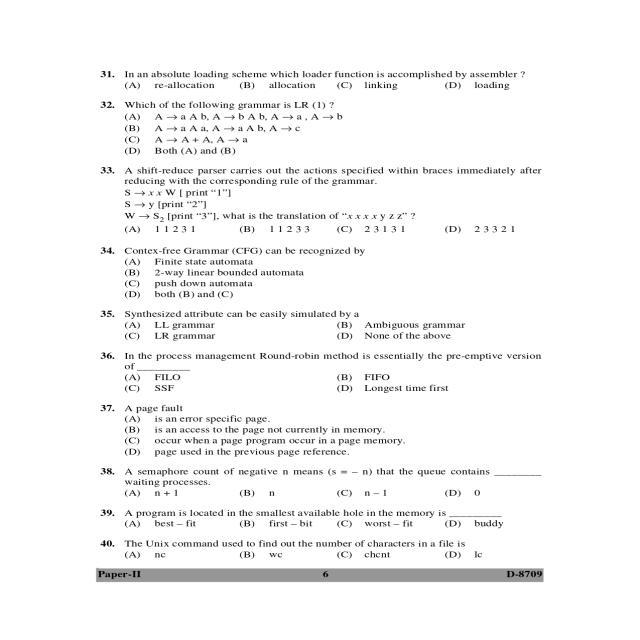Answer_Block: (91, 111, 548, 158), (92, 415, 547, 458), (92, 259, 548, 300), (91, 372, 548, 396), (92, 320, 548, 344), (92, 549, 548, 565), (92, 80, 548, 94), (92, 223, 548, 236), (92, 488, 548, 500), (91, 519, 548, 528)
Question_Answer_Block: (92, 163, 549, 237), (92, 99, 548, 157), (93, 243, 549, 300), (92, 402, 548, 458), (92, 349, 548, 396), (92, 464, 548, 501), (92, 310, 550, 345), (91, 64, 549, 95), (93, 535, 549, 564), (93, 506, 548, 528)
Question_Block: (91, 164, 550, 222), (92, 349, 548, 372), (92, 465, 548, 487), (91, 64, 548, 80), (92, 504, 548, 520), (92, 243, 548, 258), (92, 402, 548, 415), (92, 536, 548, 548), (92, 100, 548, 111), (91, 310, 550, 320)
Question_Paper_Area: (92, 63, 550, 564)
